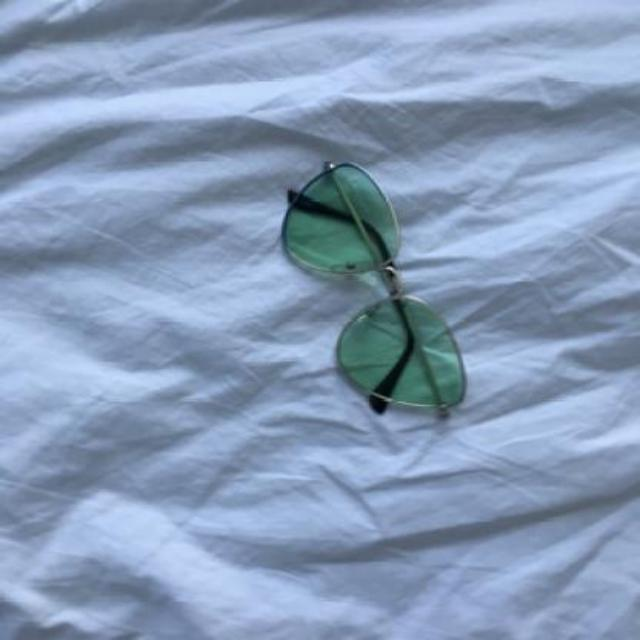glasses: (279, 160, 466, 422)
